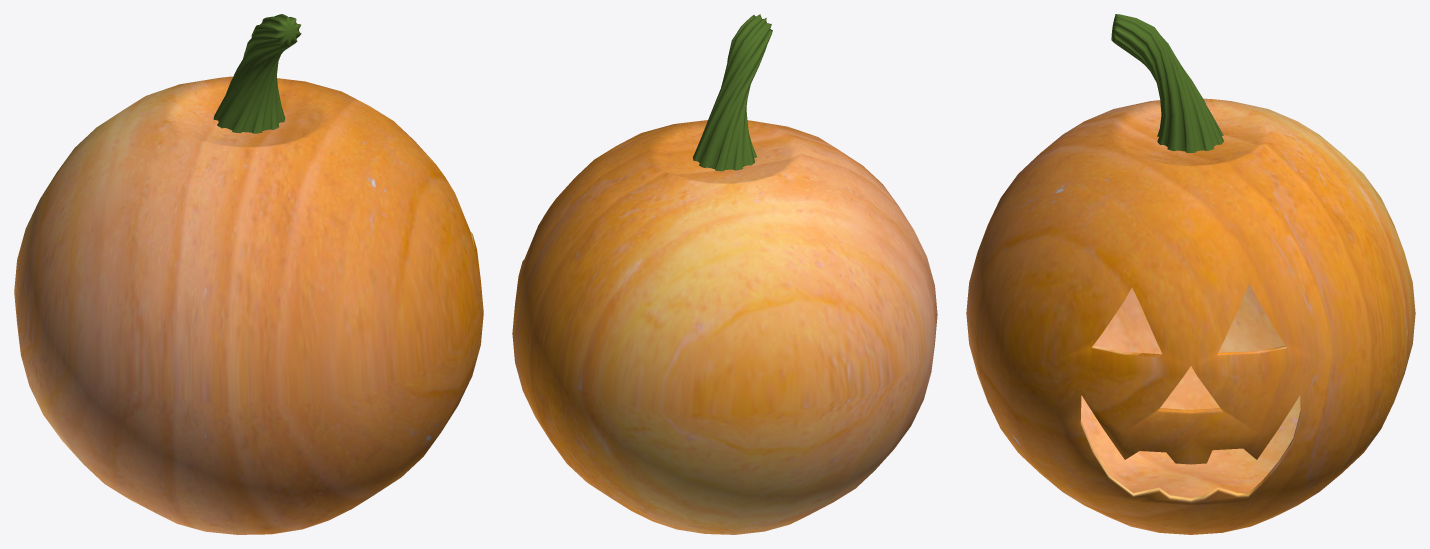
Rendered from Pumpkin_Bevel 1.fbx.
The picture shows the model from 3 angles, left to right: view 1: azimuth 30°, elevation 25°; view 2: azimuth 150°, elevation 25°; view 3: azimuth 270°, elevation 25°; orthographic projection. The views are drawn at different scales.
Visible parts, largest first — view 1: pSphere5; view 2: pSphere5; view 3: pSphere5.
Boxes of the visible parts, x1,y1,x2,y2 form: pSphere5: (14,14,483,534); pSphere5: (512,14,937,534); pSphere5: (966,14,1415,534).
Bounding box in the file's own units: 5.17 × 6.13 × 5.18.
